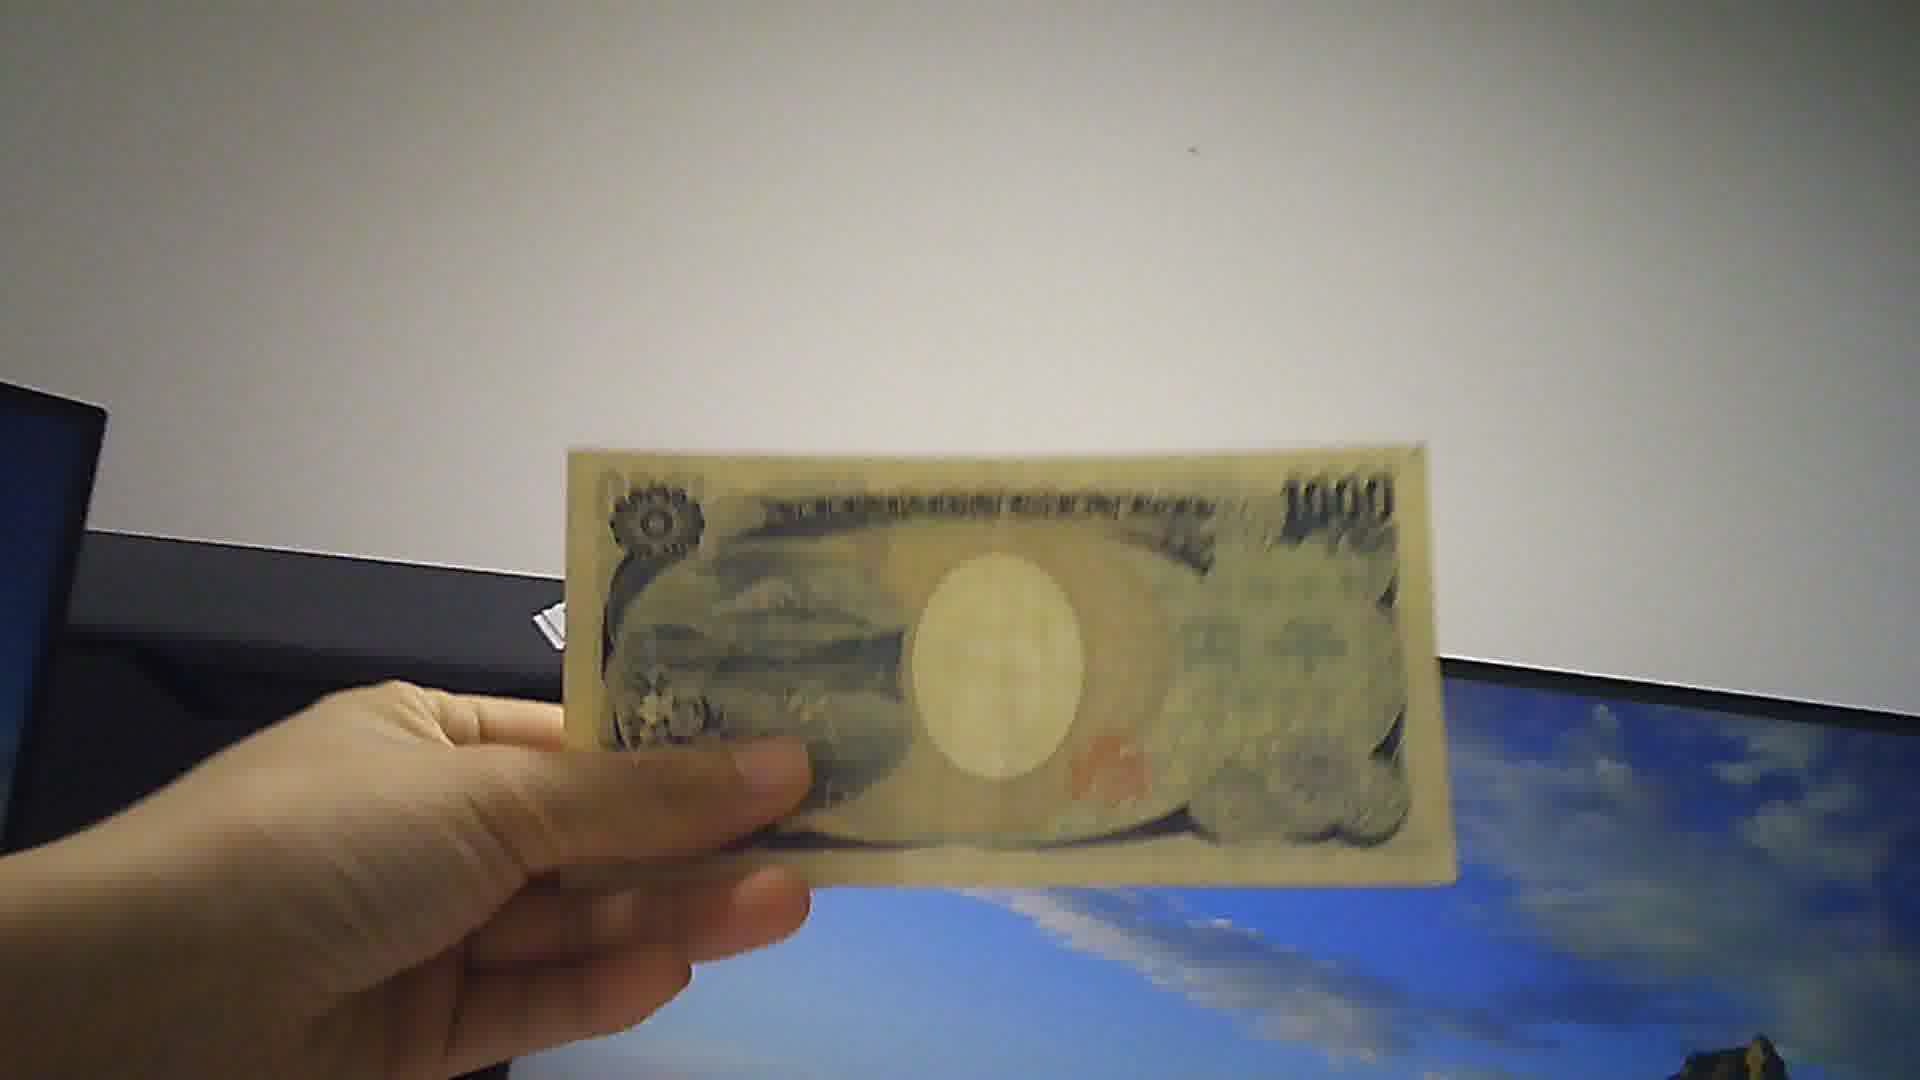1,000 Yen: (547, 427, 1456, 886)
